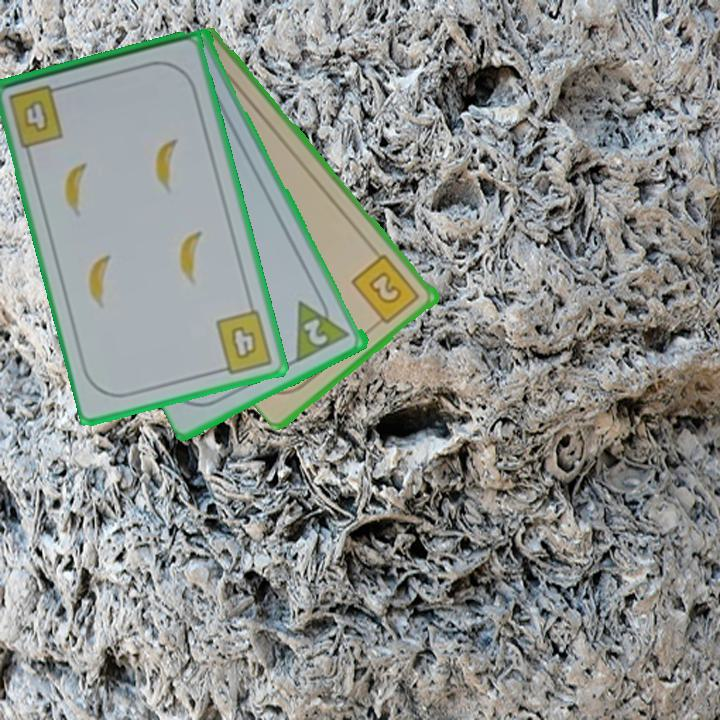2b: (348, 251, 423, 329)
2p: (292, 289, 353, 365)
4b: (212, 306, 277, 377), (5, 81, 69, 150)
